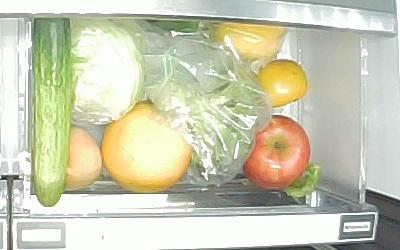apple: (246, 116, 312, 189)
broccoli_vinyl: (143, 69, 265, 177)
cucumber: (31, 18, 68, 208)
grapefruit: (103, 101, 191, 194)
lettuce_vinyl: (68, 21, 141, 123)
paprika_vinyl: (212, 22, 288, 61)
peach: (63, 126, 102, 191)
persimmon: (258, 59, 309, 107)
